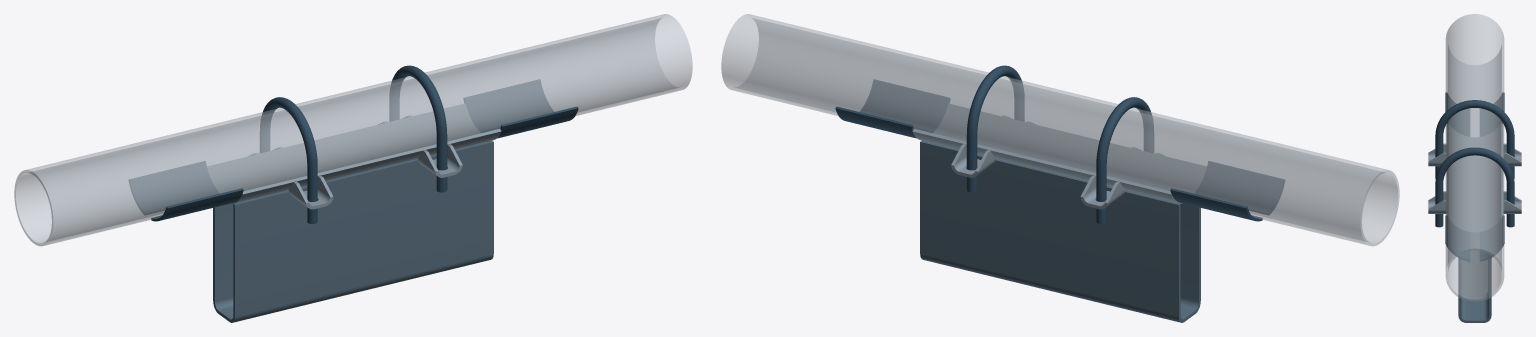
File: TS-670.00.00-07-opora-dn89-H150.glb
3 views of the same model, side by side, from view 1: azimuth 30°, elevation 25°; view 2: azimuth 150°, elevation 25°; view 3: azimuth 270°, elevation 25° (orthographic). The views are drawn at different scales.
Parts seen in each view (by area): view 1: truba, skoba_1, podushka_0, upor_-1_1, upor_1_1, homut_1, homut_-1, upor_-1_-1, upor_1_-1, ushko_7, ushko_5; view 2: truba, skoba_1, podushka_0, upor_-1_-1, upor_1_-1, homut_1, homut_-1, upor_-1_1, upor_1_1, ushko_6, ushko_4; view 3: truba, podushka_0, homut_1, homut_-1, rebro_3, skoba_1, upor_1_1, upor_1_-1, upor_-1_1, upor_-1_-1, ushko_4, ushko_5 (+2 smaller).
Part boxes in pixels (bbox=[...]): truba: bbox=[14, 14, 692, 246]; skoba_1: bbox=[213, 140, 493, 322]; podushka_0: bbox=[207, 104, 501, 203]; upor_-1_1: bbox=[129, 161, 218, 214]; upor_1_1: bbox=[463, 79, 553, 132]; homut_1: bbox=[389, 65, 447, 192]; homut_-1: bbox=[260, 97, 317, 223]; upor_-1_-1: bbox=[151, 188, 243, 221]; upor_1_-1: bbox=[497, 106, 578, 138]; ushko_7: bbox=[288, 176, 333, 209]; ushko_5: bbox=[418, 144, 462, 177]; truba: bbox=[721, 14, 1399, 246]; skoba_1: bbox=[920, 140, 1200, 322]; podushka_0: bbox=[912, 104, 1206, 203]; upor_-1_-1: bbox=[1195, 161, 1284, 214]; upor_1_-1: bbox=[860, 79, 950, 132]; homut_1: bbox=[966, 65, 1024, 192]; homut_-1: bbox=[1096, 97, 1153, 223]; upor_-1_1: bbox=[1170, 188, 1262, 221]; upor_1_1: bbox=[835, 106, 916, 138]; ushko_6: bbox=[1080, 176, 1125, 209]; ushko_4: bbox=[951, 144, 995, 177]; truba: bbox=[1445, 14, 1504, 301]; podushka_0: bbox=[1446, 124, 1503, 234]; homut_1: bbox=[1435, 147, 1514, 227]; homut_-1: bbox=[1435, 100, 1514, 178]; rebro_3: bbox=[1461, 235, 1488, 297]; skoba_1: bbox=[1458, 258, 1491, 322]; upor_1_1: bbox=[1479, 215, 1504, 261]; upor_1_-1: bbox=[1445, 215, 1470, 261]; upor_-1_1: bbox=[1480, 92, 1504, 136]; upor_-1_-1: bbox=[1445, 92, 1469, 136]; ushko_4: bbox=[1503, 191, 1521, 213]; ushko_5: bbox=[1428, 191, 1446, 213].
Size of the model in its own units: 840 by 253 by 141.
